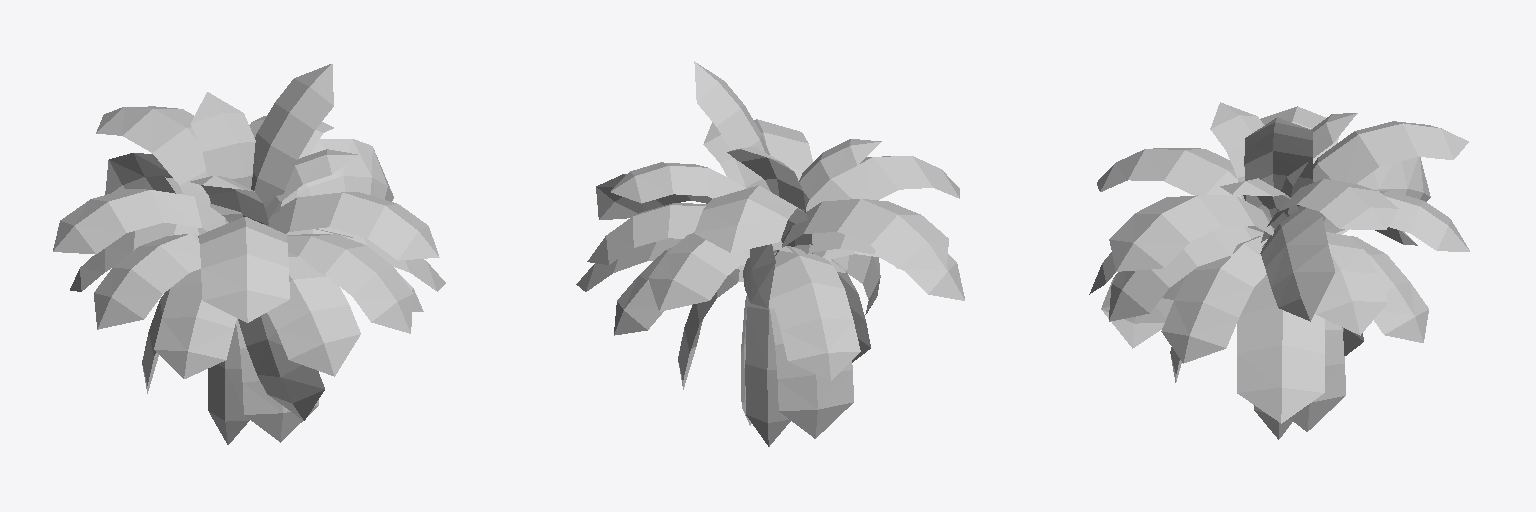
Rendered from palmLeafs.obj.
3 renders of one model, left to right at view 1: azimuth 30°, elevation 25°; view 2: azimuth 150°, elevation 25°; view 3: azimuth 270°, elevation 25°, orthographic.
Visible parts, largest first — view 1: polySurface335.001; view 2: polySurface335.001; view 3: polySurface335.001.
Boxes of the visible parts, x1=… form: polySurface335.001: x1=53, y1=64, x2=445, y2=444; polySurface335.001: x1=576, y1=61, x2=964, y2=446; polySurface335.001: x1=1089, y1=102, x2=1469, y2=439.
Bounding box in the file's own units: 25.03 × 21.95 × 21.64.